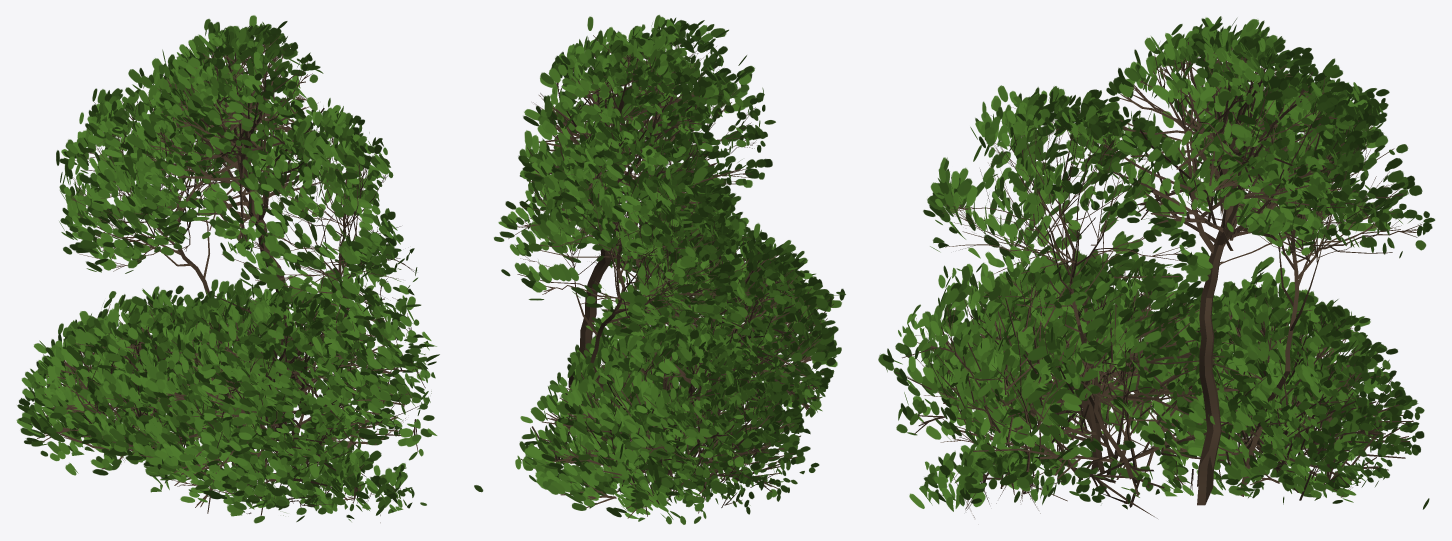
3 views of the same model, side by side, from view 1: azimuth 30°, elevation 25°; view 2: azimuth 150°, elevation 25°; view 3: azimuth 270°, elevation 25° (orthographic). The views are drawn at different scales.
Parts seen in each view (by area): view 1: oak 01.001_trunk_Mat.001_0.174; view 2: oak 01.001_trunk_Mat.001_0.174; view 3: oak 01.001_trunk_Mat.001_0.174.
Part boxes in pixels (x1,y1,x2,y2): oak 01.001_trunk_Mat.001_0.174: [16, 15, 439, 523]; oak 01.001_trunk_Mat.001_0.174: [474, 15, 845, 524]; oak 01.001_trunk_Mat.001_0.174: [878, 16, 1435, 518].
Size of the model in its own units: 3.25 by 4.81 by 5.04.
Materials: 2 (1 with a texture image).
